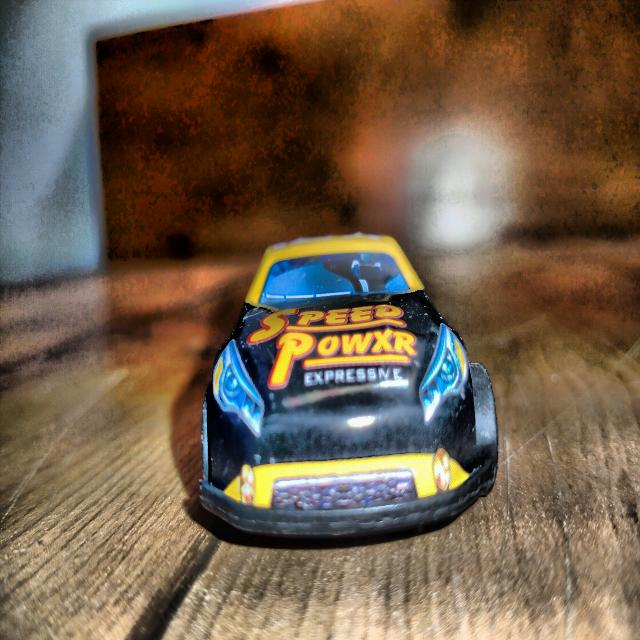Car: (200, 234, 497, 537)
